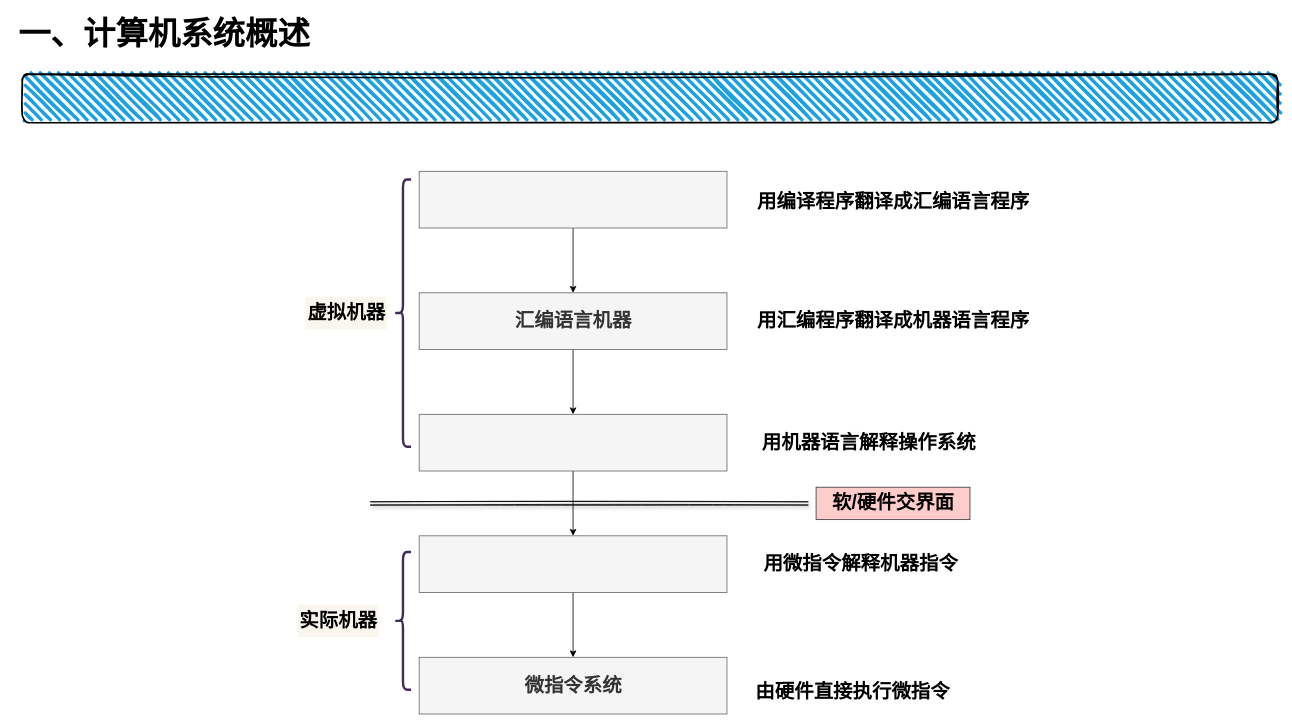
The diagram is 1292 pixels wide and 728 high, and some of its shapes have lost their labels. Each missing label, with the centre of its shape:
"操作系统机器" goes at [572,442].
"机器语言机器" goes at [572,564].
"高级语言机器" goes at [572,199].
